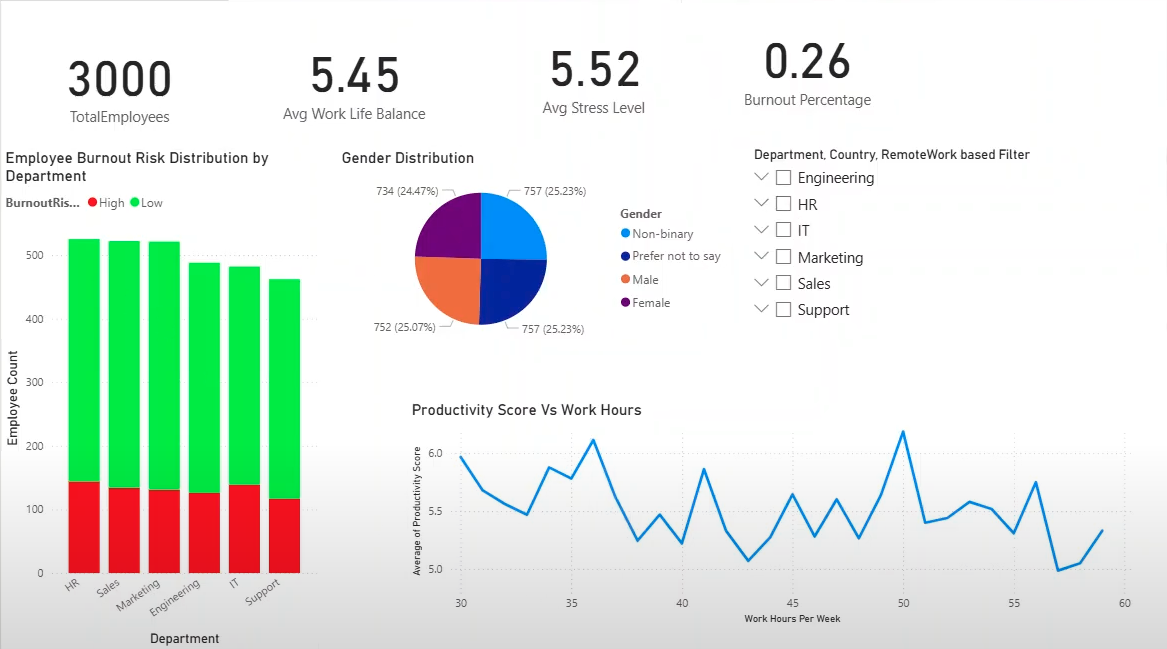

What the dashboard file says about the page in this screenshot:
{"tool":"powerbi","page":{"name":"Page 1","canvas":[1280,720],"ordinal":0},"visuals":[{"type":"card","fields":{"Values":["EmployeeData.TotalEmployees"]},"box":[0,0,260.7,182.9],"z":0},{"type":"card","fields":{"Values":["EmployeeData.Avg Stress Level"]},"box":[526.2,0,250.9,169.2],"z":1000},{"type":"card","fields":{"Values":["EmployeeData.Burnout Percentage"]},"box":[747,0,278.2,151.7],"z":2000},{"type":"card","fields":{"Values":["EmployeeData.Avg Work Life Balance"]},"box":[250,0,276.2,182.9],"z":3000},{"type":"columnChart","title":"Employee Burnout Risk Distribution by Department","fields":{"Category":["EmployeeData.Department"],"Y":["Count(EmployeeData.EmployeeID)"],"Series":["EmployeeData.BurnoutRisk_Label"]},"box":[0,169.2,352.1,550.5],"z":4000},{"type":"pieChart","title":"Gender Distribution","fields":{"Category":["EmployeeData.Gender"],"Y":["CountNonNull(EmployeeData.EmployeeID)"]},"box":[368.6,169.2,435.7,222.7],"z":5000},{"type":"lineChart","title":"Productivity Score Vs Work Hours","fields":{"Category":["EmployeeData.WorkHoursPerWeek"],"Y":["Avg(EmployeeData.ProductivityScore)"]},"box":[445.5,444.5,802.4,250.9],"z":6000},{"type":"slicer","fields":{"Values":["EmployeeData.Department","EmployeeData.Country","EmployeeData.RemoteWork"]},"box":[814.1,161.5,465.9,206.2],"z":6001}]}

Visuals, with their boxes in screenshot pixels (x1, y1, x2, y2), scaled from the page's 1280x720 canvas onto the 1167x649 screenshot:
card - EmployeeData.TotalEmployees: 0/0/238/165
card - EmployeeData.Avg Stress Level: 480/0/708/153
card - EmployeeData.Burnout Percentage: 681/0/935/137
card - EmployeeData.Avg Work Life Balance: 228/0/480/165
"Employee Burnout Risk Distribution by Department" columnChart: 0/153/321/648
"Gender Distribution" pieChart: 336/153/733/353
"Productivity Score Vs Work Hours" lineChart: 406/401/1138/627
slicer - EmployeeData.Department x EmployeeData.Country: 742/146/1166/331
